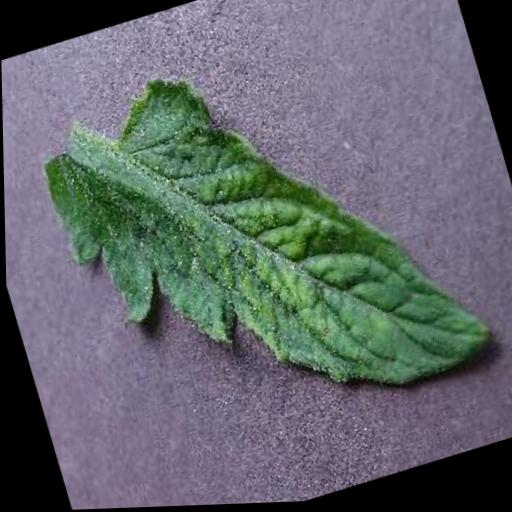Mosaic Virus: (25, 7, 501, 473)
